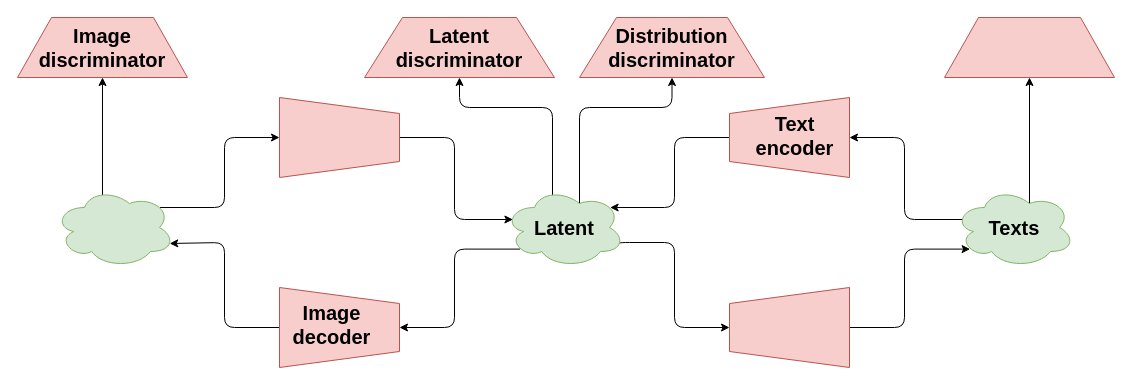
This 1132x385 diagram has some shape labels left out. The shapes that lost their labels are listed below. From the top down, each one's box as (x1, y1, x2, y2) in pixels, then its label:
(944, 16, 1114, 78): Text discriminator
(278, 96, 400, 178): Image encoder
(54, 186, 174, 268): Images
(728, 286, 850, 368): Text decoder
